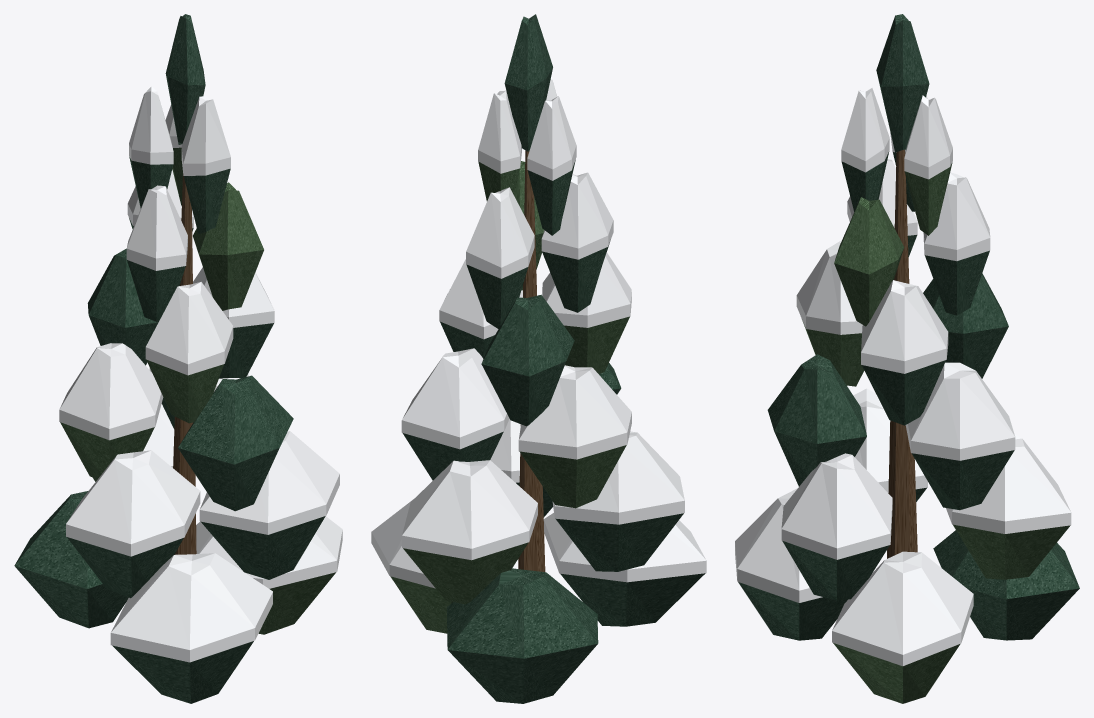
File: tree_snow_02.glb
3 views of the same model, side by side, from view 1: azimuth 30°, elevation 25°; view 2: azimuth 150°, elevation 25°; view 3: azimuth 270°, elevation 25° (orthographic).
Visible parts, largest first — view 1: snow_accumulation, canonical_base; view 2: canonical_base, snow_accumulation; view 3: canonical_base, snow_accumulation.
Part boxes in pixels (left/top/right/bottom): snow_accumulation: left=59, top=86, right=342, bottom=662; canonical_base: left=14, top=14, right=335, bottom=703; canonical_base: left=390, top=14, right=705, bottom=703; snow_accumulation: left=371, top=76, right=706, bottom=588; canonical_base: left=738, top=14, right=1079, bottom=703; snow_accumulation: left=735, top=88, right=1071, bottom=666.
Size of the model in its own units: 3.2 by 6.8 by 3.2.
Materials: 3 (2 with a texture image).
